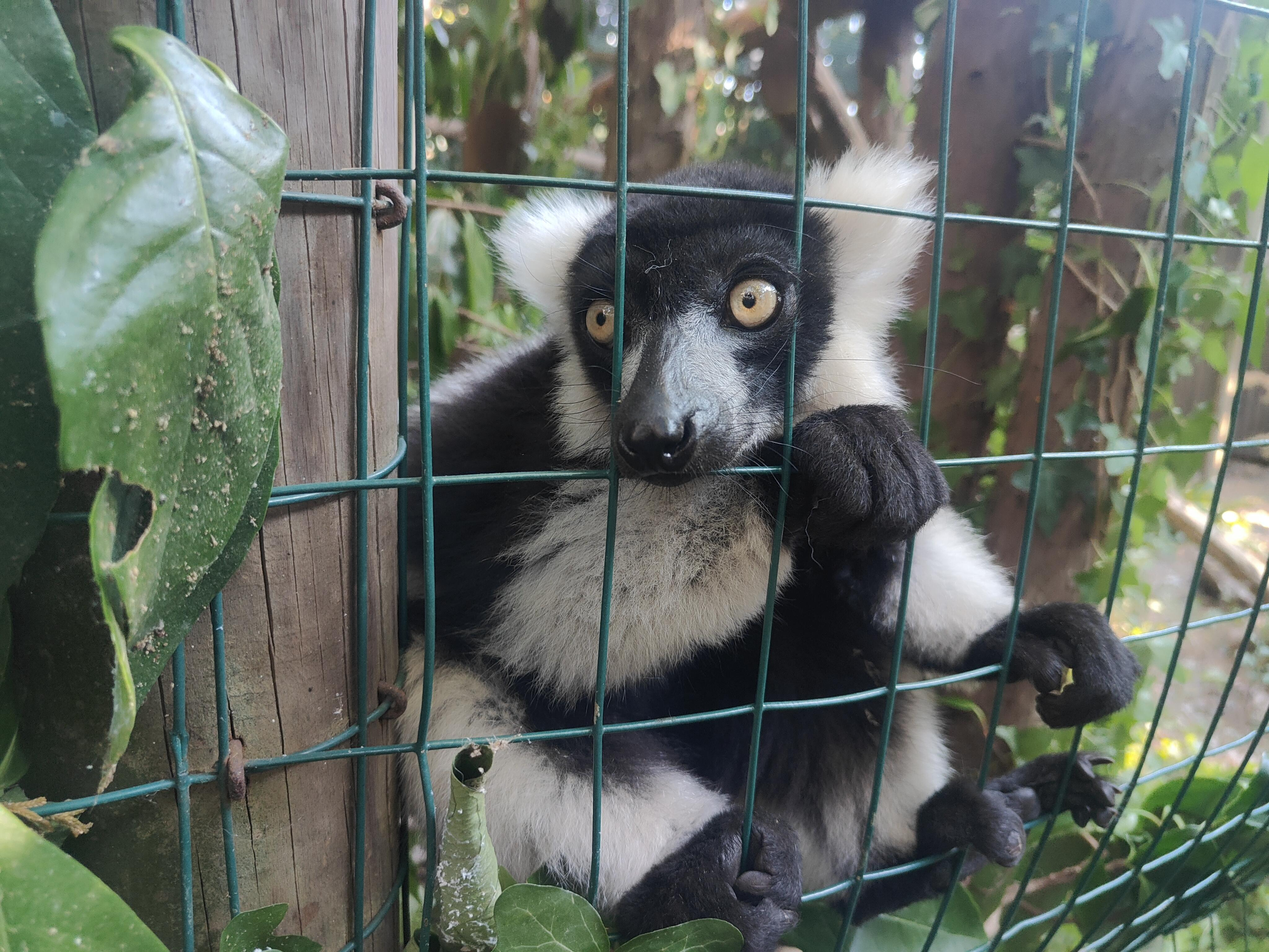boar: (400, 143, 1143, 952)
